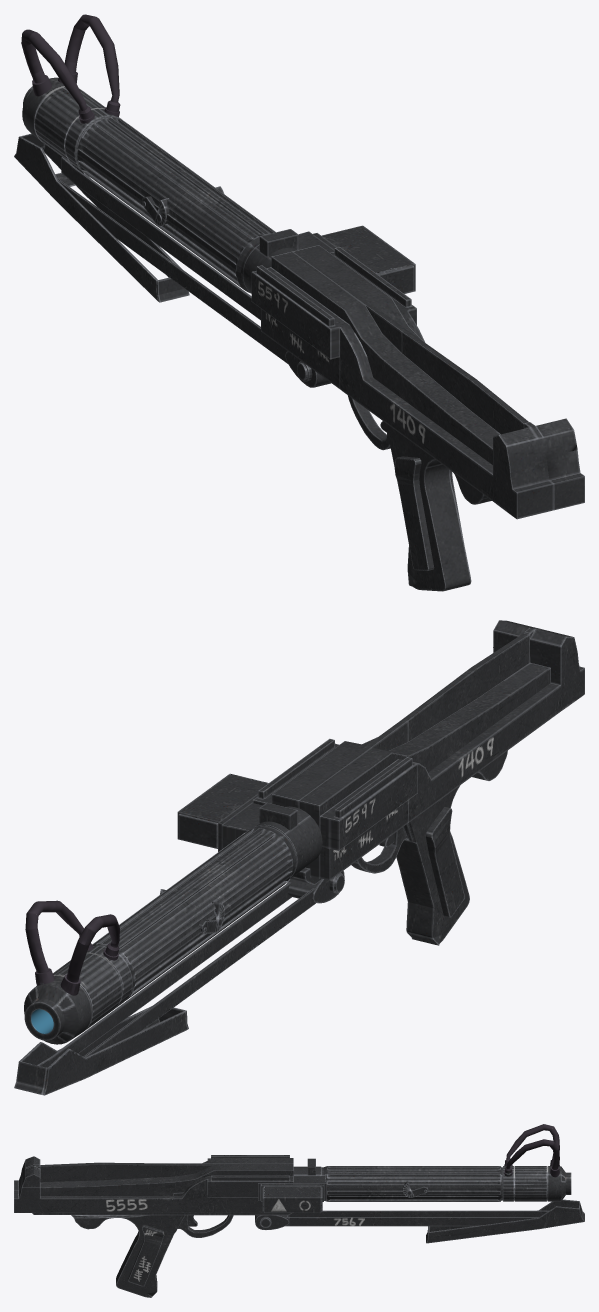
File: StormtrooperGun.fbx
3 renders of one model, top to bottom at view 1: azimuth 30°, elevation 25°; view 2: azimuth 150°, elevation 25°; view 3: azimuth 270°, elevation 25°, orthographic. The views are drawn at different scales.
Visible parts, largest first — view 1: pCube22; view 2: pCube22; view 3: pCube22.
Part boxes in pixels (box(x1,y1,x2,y2)): pCube22: box(14, 14, 584, 591); pCube22: box(14, 620, 584, 1095); pCube22: box(14, 1124, 584, 1297).
Bounding box in the file's own units: 10.25 × 21.27 × 67.91.
